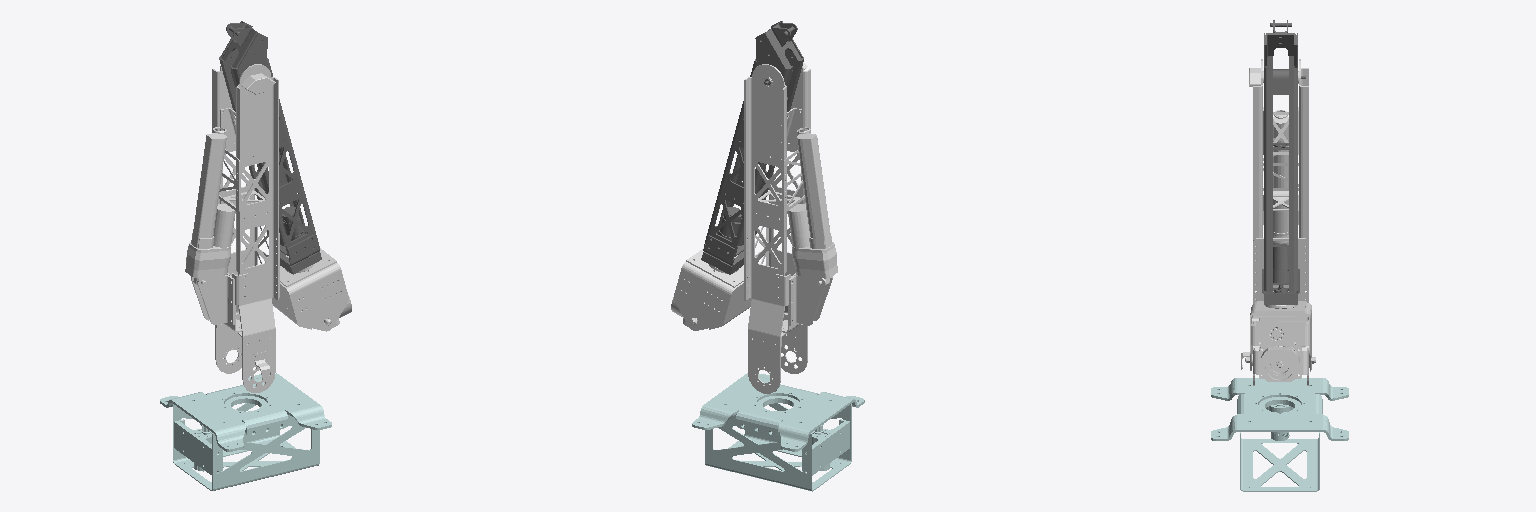
robot.urdf — manipulator:
<robot
  name="manipulator">
  <link
    name="base_link">
    <inertial>
      <origin
        xyz="-0.029 3.0957E-06 0.081458"
        rpy="0 0 0" />
      <mass
        value="1.404" />
      <inertia
        ixx="0.0018489"
        ixy="2.7417E-07"
        ixz="-0.0010428"
        iyy="0.0047182"
        iyz="1.219E-07"
        izz="0.0028693" />
    </inertial>
    <visual>
      <origin
        xyz="0 0 0"
        rpy="0 0 0" />
      <geometry>
        <mesh
          filename="package://manipulator/meshes/base_link.STL" />
      </geometry>
      <material
        name="silver">
        <color
          rgba="0.8 0.9 0.9 1" />
      </material>
    </visual>
    <collision>
      <origin
        xyz="0 0 0"
        rpy="0 0 0" />
      <geometry>
        <mesh
          filename="package://manipulator/meshes/base_link.STL" />
      </geometry>
    </collision>
  </link>
  <link
    name="shoulder_link">
    <inertial>
      <origin
        xyz="-0.024603 0.0034265 0.064143"
        rpy="0 0 0" />
      <mass
        value="4.1214" />
      <inertia
        ixx="0.0033788"
        ixy="-0.00012922"
        ixz="-0.00014319"
        iyy="0.0069305"
        iyz="0.00013755"
        izz="0.0071412" />
    </inertial>
    <visual>
      <origin
        xyz="0 0 0"
        rpy="0 0 0" />
      <geometry>
        <mesh
          filename="package://manipulator/meshes/shoulder_link.STL" />
      </geometry>
      <material
        name="gray">
        <color
          rgba="0.2 0.2 0.3 1" />
      </material>
    </visual>
    <collision>
      <origin
        xyz="0 0 0"
        rpy="0 0 0" />
      <geometry>
        <mesh
          filename="package://manipulator/meshes/shoulder_link.STL" />
      </geometry>
    </collision>
  </link>
  <joint
    name="shoulder_rotation"
    type="revolute">
    <origin
      xyz="0 0 0.13"
      rpy="0 0 0" />
    <parent
      link="base_link" />
    <child
      link="shoulder_link" />
    <axis
      xyz="0 0 1" />
    <limit
      lower="-3.14"
      upper="3.14"
      effort="1.8"
      velocity="8.3776" />
  </joint>
  <link
    name="forearm_link">
    <inertial>
      <origin
        xyz="-0.030709 0.2846 0.0021162"
        rpy="0 0 0" />
      <mass
        value="2.138" />
      <inertia
        ixx="0.025172"
        ixy="-0.002607"
        ixz="-0.00013892"
        iyy="0.0043441"
        iyz="-0.00060463"
        izz="0.026065" />
    </inertial>
    <visual>
      <origin
        xyz="0 0 0"
        rpy="0 0 0" />
      <geometry>
        <mesh
          filename="package://manipulator/meshes/forearm_link.STL" />
      </geometry>
      <material
        name="darkgray">
        <color
          rgba="0.9 0.9 0.9 1" />
      </material>
    </visual>
    <collision>
      <origin
        xyz="0 0 0"
        rpy="0 0 0" />
      <geometry>
        <mesh
          filename="package://manipulator/meshes/forearm_link.STL" />
      </geometry>
    </collision>
  </link>
  <joint
    name="forearm_rotation"
    type="revolute">
    <origin
      xyz="0 0.00175 0.0705"
      rpy="1.5708 0 0" />
    <parent
      link="shoulder_link" />
    <child
      link="forearm_link" />
    <axis
      xyz="0 0 -1" />
    <limit
      lower="-1.5708"
      upper="1.3963"
      effort="50"
      velocity="8.3776" />
  </joint>
  <link
    name="arm_link">
    <inertial>
      <origin
        xyz="0.1767 0.0069722 5.0223E-06"
        rpy="0 0 0" />
      <mass
        value="1.1195" />
      <inertia
        ixx="0.00045953"
        ixy="-4.6934E-05"
        ixz="1.8433E-06"
        iyy="0.023018"
        iyz="1.4945E-07"
        izz="0.022579" />
    </inertial>
    <visual>
      <origin
        xyz="0 0 0"
        rpy="0 0 0" />
      <geometry>
        <mesh
          filename="package://manipulator/meshes/arm_link.STL" />
      </geometry>
      <material
        name="yellow">
        <color
          rgba="0.5 0.5 0.5 1" />
      </material>
    </visual>
    <collision>
      <origin
        xyz="0 0 0"
        rpy="0 0 0" />
      <geometry>
        <mesh
          filename="package://manipulator/meshes/arm_link.STL" />
      </geometry>
    </collision>
  </link>
  <joint
    name="arm_rotation"
    type="revolute">
    <origin
      xyz="0 0.6 0"
      rpy="0 0 -1.3089" />
    <parent
      link="forearm_link" />
    <child
      link="arm_link" />
    <axis
      xyz="0 0 -1" />
    <limit
      lower="0"
      upper="2.7925"
      effort="50"
      velocity="0.25" />
  </joint>
  <link
    name="wrist_rotation_link">
    <inertial>
      <origin
        xyz="0.00022986 -0.0044455 0.068045"
        rpy="0 0 0" />
      <mass
        value="0.70662" />
      <inertia
        ixx="0.00073736"
        ixy="-5.029E-05"
        ixz="-2.7832E-06"
        iyy="0.00091775"
        iyz="5.4552E-05"
        izz="0.0012144" />
    </inertial>
    <visual>
      <origin
        xyz="0 0 0"
        rpy="0 0 0" />
      <geometry>
        <mesh
          filename="package://manipulator/meshes/wrist_rotation_link.STL" />
      </geometry>
      <material
        name="green">
        <color
          rgba="0.9 0.9 0.9 1" />
      </material>
    </visual>
    <collision>
      <origin
        xyz="0 0 0"
        rpy="0 0 0" />
      <geometry>
        <mesh
          filename="package://manipulator/meshes/wrist_rotation_link.STL" />
      </geometry>
    </collision>
  </link>
  <joint
    name="wrist_rotation"
    type="revolute">
    <origin
      xyz="0.408 0.005 0"
      rpy="0 1.5708 0" />
    <parent
      link="arm_link" />
    <child
      link="wrist_rotation_link" />
    <axis
      xyz="0 0 -1" />
    <limit
      lower="-3.14"
      upper="3.14"
      effort="1.8"
      velocity="8.3776" />
  </joint>
  <link
    name="wrist_pitch_link">
    <inertial>
      <origin
        xyz="0.02283 1.6924E-05 4.4001E-05"
        rpy="0 0 0" />
      <mass
        value="0.22279" />
      <inertia
        ixx="8.4052E-05"
        ixy="8.7929E-08"
        ixz="-3.0476E-07"
        iyy="0.00016875"
        iyz="4.7854E-08"
        izz="8.4698E-05" />
    </inertial>
    <visual>
      <origin
        xyz="0 0 0"
        rpy="0 0 0" />
      <geometry>
        <mesh
          filename="package://manipulator/meshes/wrist_pitch_link.STL" />
      </geometry>
      <material
        name="red">
        <color
          rgba="0.9 0.9 0.9 1" />
      </material>
    </visual>
    <collision>
      <origin
        xyz="0 0 0"
        rpy="0 0 0" />
      <geometry>
        <mesh
          filename="package://manipulator/meshes/wrist_pitch_link.STL" />
      </geometry>
    </collision>
  </link>
  <joint
    name="wrist_pitch"
    type="revolute">
    <origin
      xyz="0 0 0.129"
      rpy="-1.5708 0 1.603" />
    <parent
      link="wrist_rotation_link" />
    <child
      link="wrist_pitch_link" />
    <axis
      xyz="0 0 -1" />
    <limit
      lower="-1.5708"
      upper="0"
      effort="10.8"
      velocity="5.236" />
  </joint>
  <link
    name="gripper_link">
    <inertial>
      <origin
        xyz="0.00062878 0.0062787 0.096632"
        rpy="0 0 0" />
      <mass
        value="0.52227" />
      <inertia
        ixx="0.0022506"
        ixy="-1.61E-06"
        ixz="-2.3088E-05"
        iyy="0.0026696"
        iyz="0.00015523"
        izz="0.00081423" />
    </inertial>
    <visual>
      <origin
        xyz="0 0 0"
        rpy="0 0 0" />
      <geometry>
        <mesh
          filename="package://manipulator/meshes/gripper_link.STL" />
      </geometry>
      <material
        name="blue">
        <color
          rgba="0.5 0.5 0 1" />
      </material>
    </visual>
    <collision>
      <origin
        xyz="0 0 0"
        rpy="0 0 0" />
      <geometry>
        <mesh
          filename="package://manipulator/meshes/gripper_link.STL" />
      </geometry>
    </collision>
  </link>
  <joint
    name="gripper_rotation"
    type="revolute">
    <origin
      xyz="0.0643 0 0"
      rpy="0 1.5708 0" />
    <parent
      link="wrist_pitch_link" />
    <child
      link="gripper_link" />
    <axis
      xyz="0 0 -1" />
    <limit
      lower="-3.14"
      upper="3.14"
      effort="10.8"
      velocity="5.236" />
  </joint>
</robot>

--- Render facts (derived) ---
Views: 3 orthographic renders of the robot side by side, from view 1: azimuth 30°, elevation 25°; view 2: azimuth 150°, elevation 25°; view 3: azimuth 270°, elevation 25°.
Model manipulator with 7 links and 6 joints (6 revolute), rooted at base_link, posed all joints at 0.
Links seen in each view (by area): view 1: forearm_link, base_link, arm_link, wrist_rotation_link; view 2: forearm_link, base_link, arm_link, wrist_rotation_link; view 3: base_link, forearm_link, arm_link, wrist_rotation_link, wrist_pitch_link.
Boxes of the visible links, left/top/right/bottom form: forearm_link: left=185, top=64, right=279, bottom=392; base_link: left=160, top=373, right=331, bottom=490; arm_link: left=219, top=21, right=321, bottom=274; wrist_rotation_link: left=272, top=248, right=348, bottom=331; forearm_link: left=744, top=62, right=837, bottom=393; base_link: left=692, top=373, right=864, bottom=491; arm_link: left=701, top=21, right=803, bottom=274; wrist_rotation_link: left=674, top=248, right=751, bottom=330; base_link: left=1211, top=378, right=1348, bottom=491; forearm_link: left=1241, top=59, right=1308, bottom=385; arm_link: left=1262, top=20, right=1305, bottom=304; wrist_rotation_link: left=1250, top=291, right=1311, bottom=371; wrist_pitch_link: left=1245, top=346, right=1315, bottom=381.
Size in the robot's own frame: 0.3364 by 0.2602 by 0.9079 metres.
5 mesh visuals loaded from 7 distinct referenced files (5 binary STL); not drawn: 2 (reference not matched to a file when rendering).